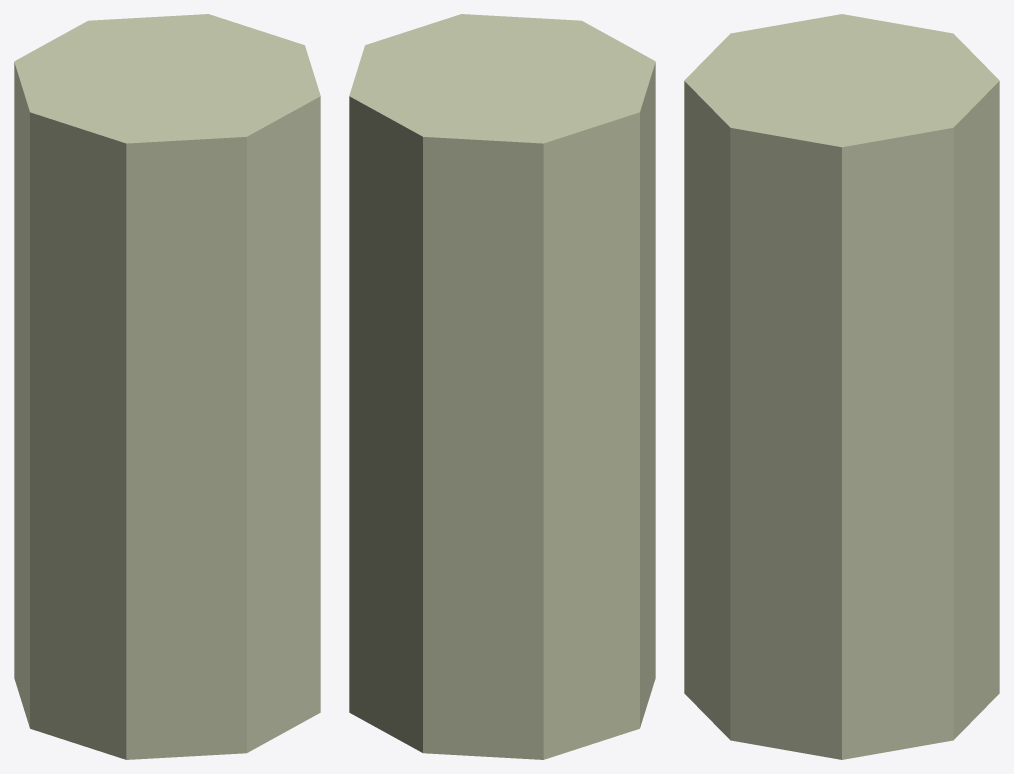
The model's file is 4mv_engine_s0_1_srfcollider.obj.
3 views of the same model, side by side, from view 1: azimuth 30°, elevation 25°; view 2: azimuth 150°, elevation 25°; view 3: azimuth 270°, elevation 25° (orthographic).
Parts seen in each view (by area): view 1: collider; view 2: collider; view 3: collider.
Part boxes in pixels (box(x1,y1,x2,y2)): collider: box(14, 14, 320, 759); collider: box(349, 14, 655, 759); collider: box(684, 14, 999, 759).
Bounding box in the file's own units: 0.175 × 0.375 × 0.175.
